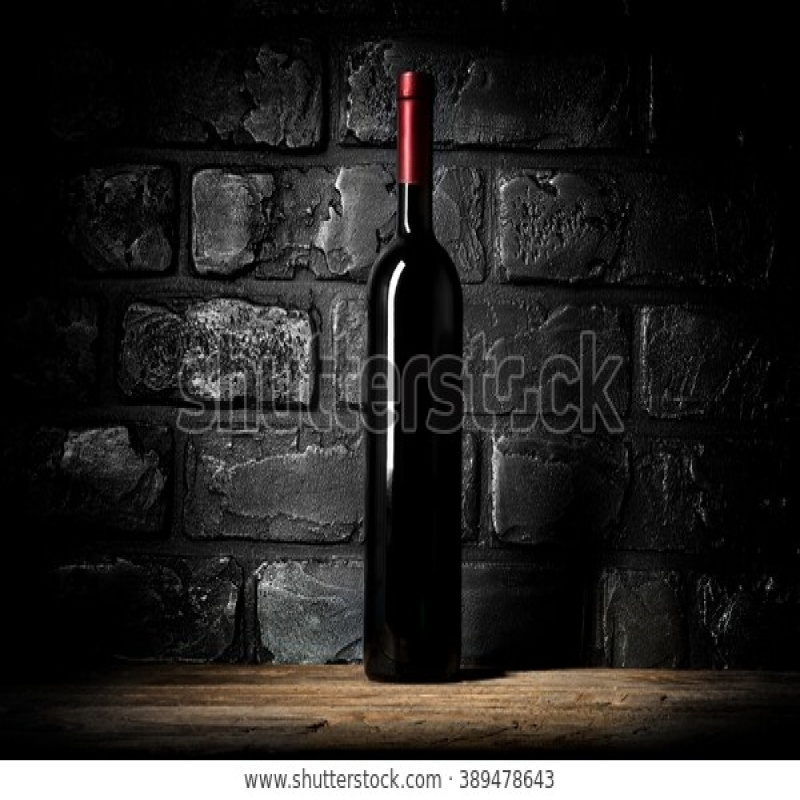wine: (358, 72, 466, 675)
